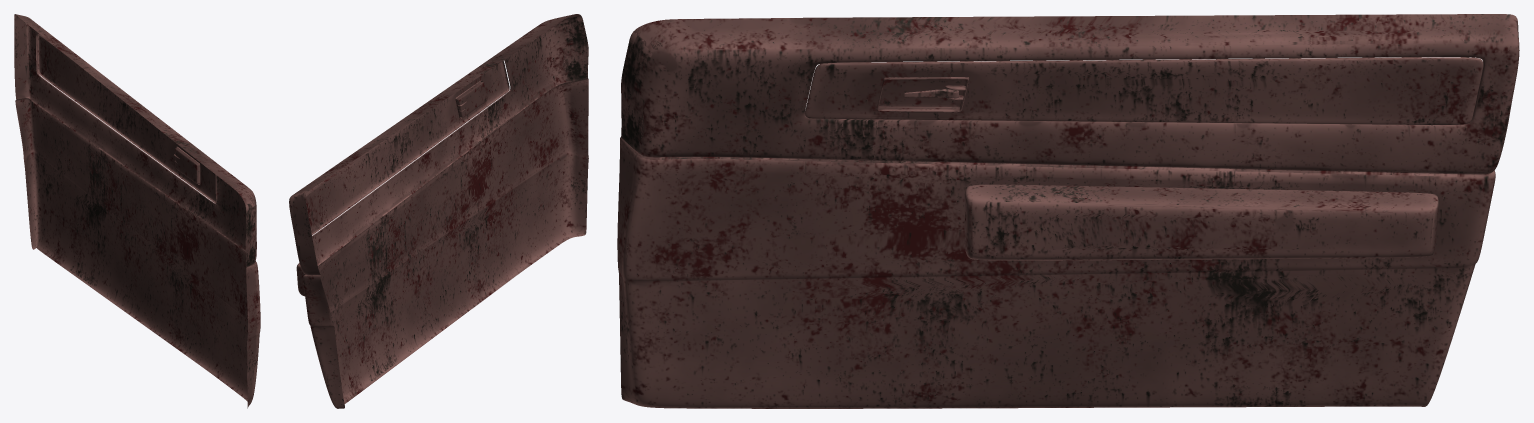
File: interior_right_panel.glb
3 renders of one model, left to right at view 1: azimuth 30°, elevation 25°; view 2: azimuth 150°, elevation 25°; view 3: azimuth 270°, elevation 25°, orthographic. The views are drawn at different scales.
Parts seen in each view (by area): view 1: SEAT R.015, SEAT R.016, SEAT R.017; view 2: SEAT R.015, SEAT R.016, SEAT R.017; view 3: SEAT R.015, SEAT R.016, SEAT R.018, SEAT R.017.
Boxes of the visible parts, box(x1,y1,x2,y2) form: SEAT R.015: box(14, 14, 260, 408); SEAT R.016: box(37, 35, 215, 203); SEAT R.017: box(175, 146, 200, 184); SEAT R.015: box(289, 14, 588, 408); SEAT R.016: box(305, 61, 509, 234); SEAT R.017: box(455, 80, 487, 118); SEAT R.015: box(617, 14, 1519, 408); SEAT R.016: box(805, 57, 1483, 124); SEAT R.018: box(964, 184, 1438, 260); SEAT R.017: box(876, 77, 969, 112).
Size of the model in its own units: 0.1435 by 0.642 by 1.33.
Materials: 1 (1 with a texture image).
